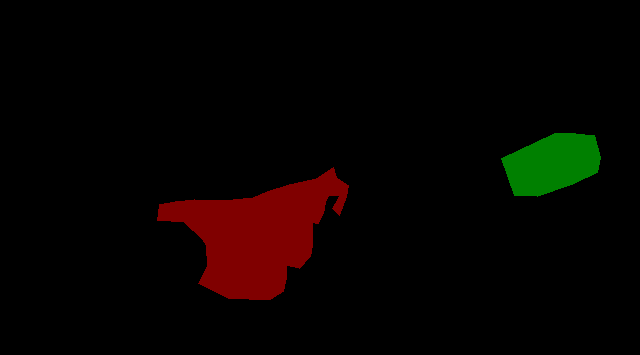fire: (157, 167, 348, 299), (501, 133, 600, 196)
